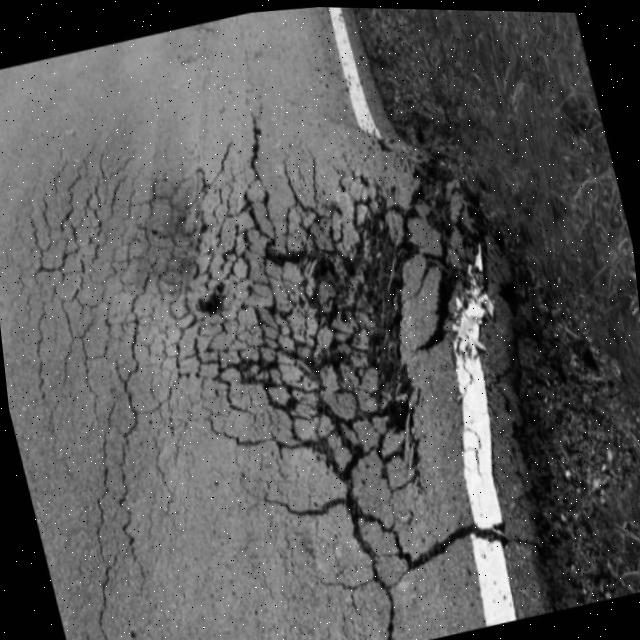Pothole: (133, 117, 514, 609), (440, 161, 640, 616)
